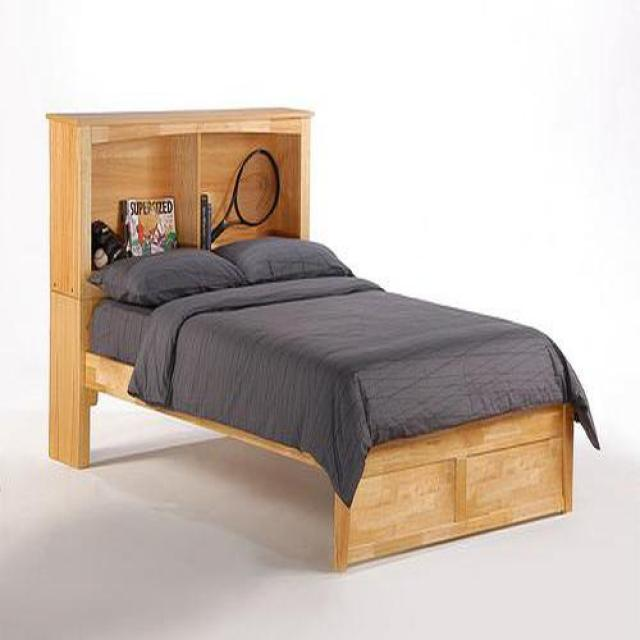bed: (47, 109, 600, 575)
